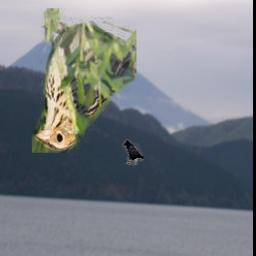Crow: (124, 140, 144, 166)
Sparrow: (33, 8, 137, 153)
